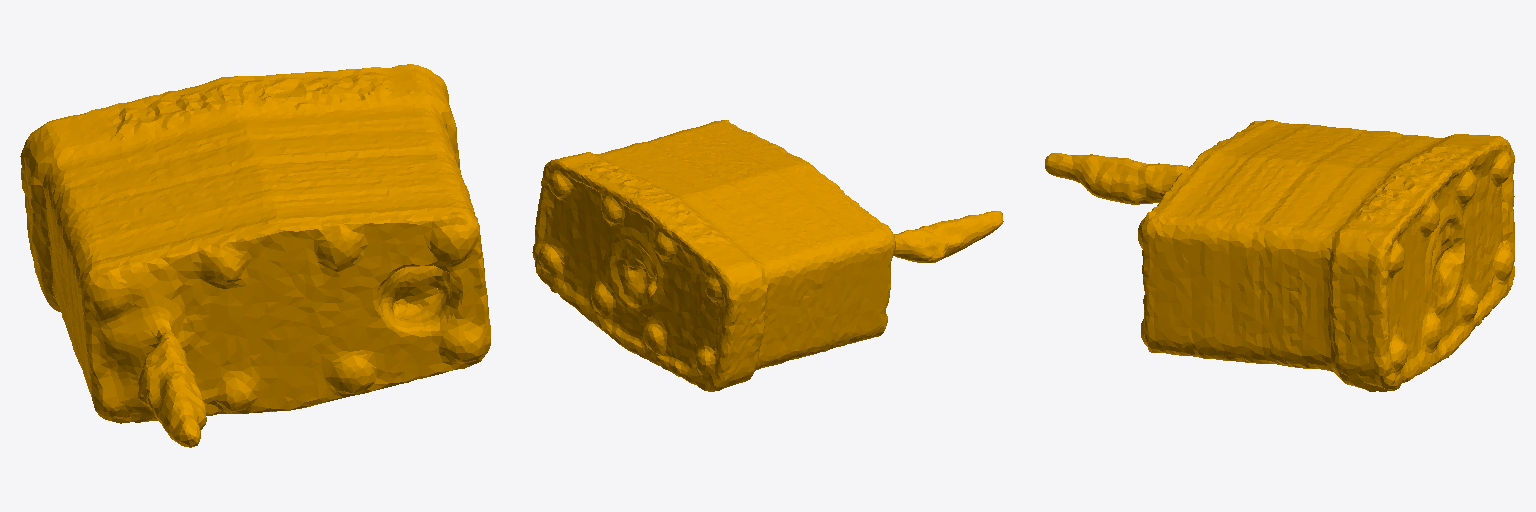
URDF robot description (038_padlock):
<?xml version="1.0"?>
<robot name="038_padlock">
  <link name="base_link">
    <inertial>
      <mass value="0.08" />
      <origin xyz="0 0 0" />
      <inertia  ixx="0.0002" ixy="0.0"  ixz="0.0"  iyy="0.0002"  iyz="0.0" izz="0.0002" />
    </inertial>
    <visual>
      <geometry>
        <mesh filename="../../meshes/ycb_video_models/centered/038_padlock/textured.obj" />
      </geometry>
    </visual>
    <collision>
      <geometry>
        <mesh filename="../../meshes/ycb_video_models/centered/038_padlock/textured.obj" />
      </geometry>
    </collision>
  </link>
</robot>

--- Facts derived from the render (not from the file) ---
Views: 3 orthographic renders of the robot side by side, from view 1: azimuth 30°, elevation 25°; view 2: azimuth 150°, elevation 25°; view 3: azimuth 270°, elevation 25°.
Robot: 038_padlock — 1 links, 0 joints (none); root link base_link; default pose: every joint at zero.
Visible links, largest first — view 1: base_link; view 2: base_link; view 3: base_link.
Link boxes in pixels (bbox=[...]): base_link: bbox=[20, 64, 490, 447]; base_link: bbox=[532, 120, 1003, 391]; base_link: bbox=[1045, 120, 1514, 391].
Size in the robot's own frame: 0.067 by 0.0681 by 0.0291 metres.
Meshes: 1 distinct files referenced, 1 mesh visuals loaded (1 OBJ).